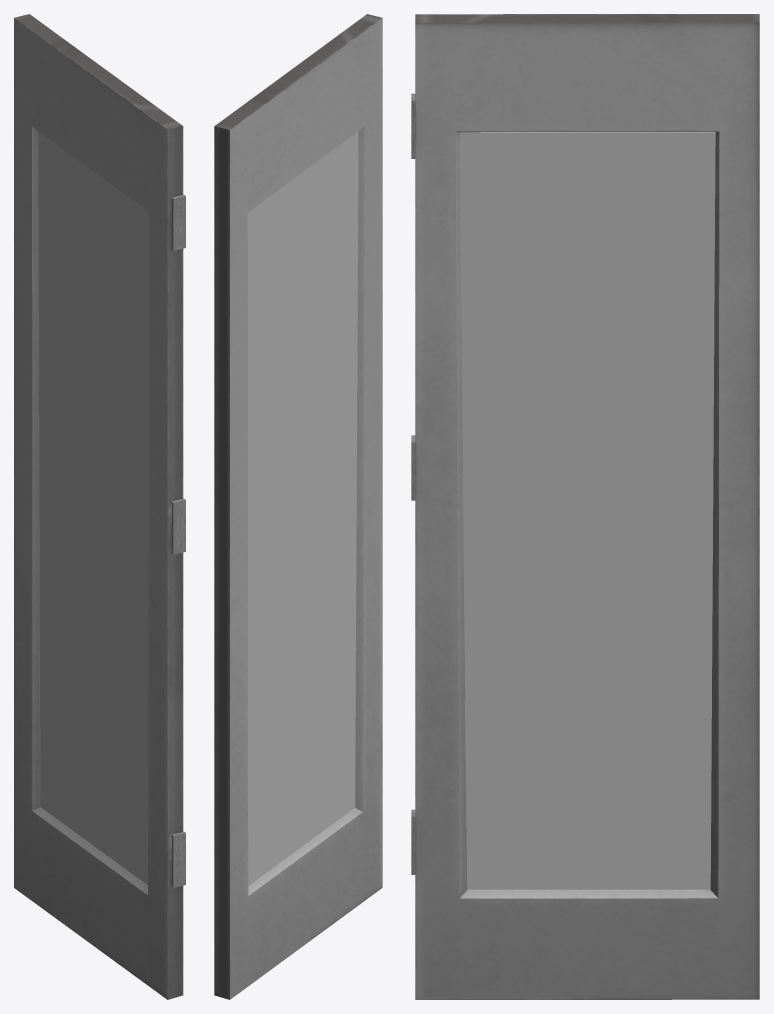
The model's file is SM_Front_Door_1.fbx.
The picture shows the model from 3 angles, left to right: view 1: azimuth 30°, elevation 25°; view 2: azimuth 150°, elevation 25°; view 3: azimuth 270°, elevation 25°; orthographic projection. The views are drawn at different scales.
Parts seen in each view (by area): view 1: SM_Front_Door_1; view 2: SM_Front_Door_1; view 3: SM_Front_Door_1.
Part boxes in pixels (x1,y1,x2,y2): SM_Front_Door_1: (14,14,185,999); SM_Front_Door_1: (214,14,382,999); SM_Front_Door_1: (411,14,759,999).
Bounding box in the file's own units: 4.58 × 73.06 × 226.
2 materials, 1 textured.
